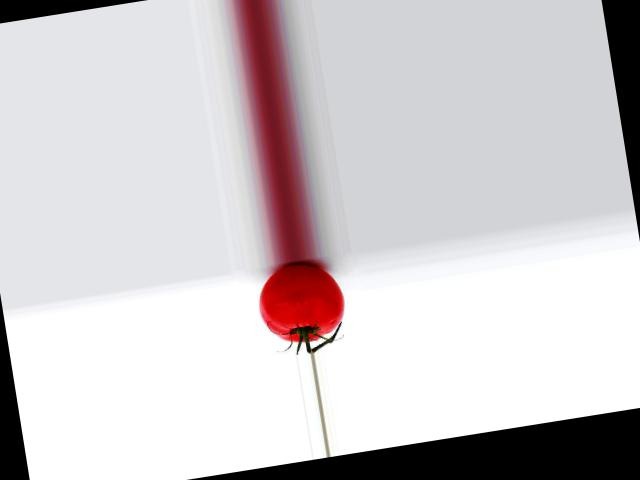tomato: (252, 257, 348, 347)
